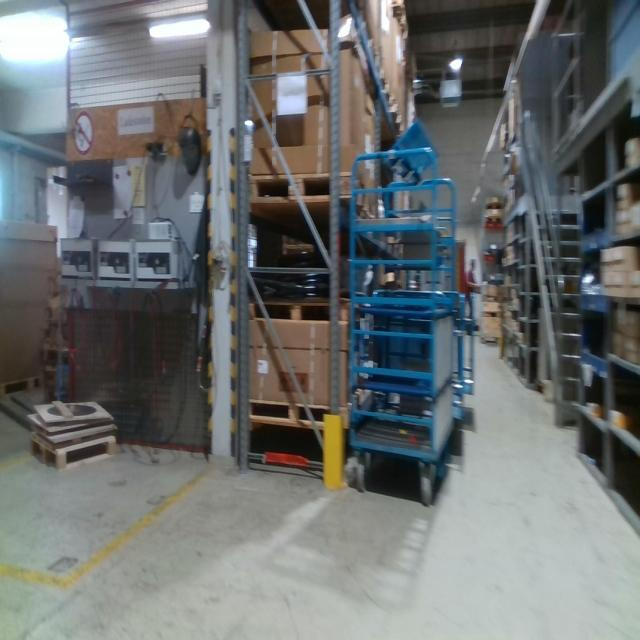pallet: (248, 395, 351, 434), (247, 170, 357, 206), (31, 431, 118, 471), (247, 297, 353, 327), (1, 373, 41, 403)
